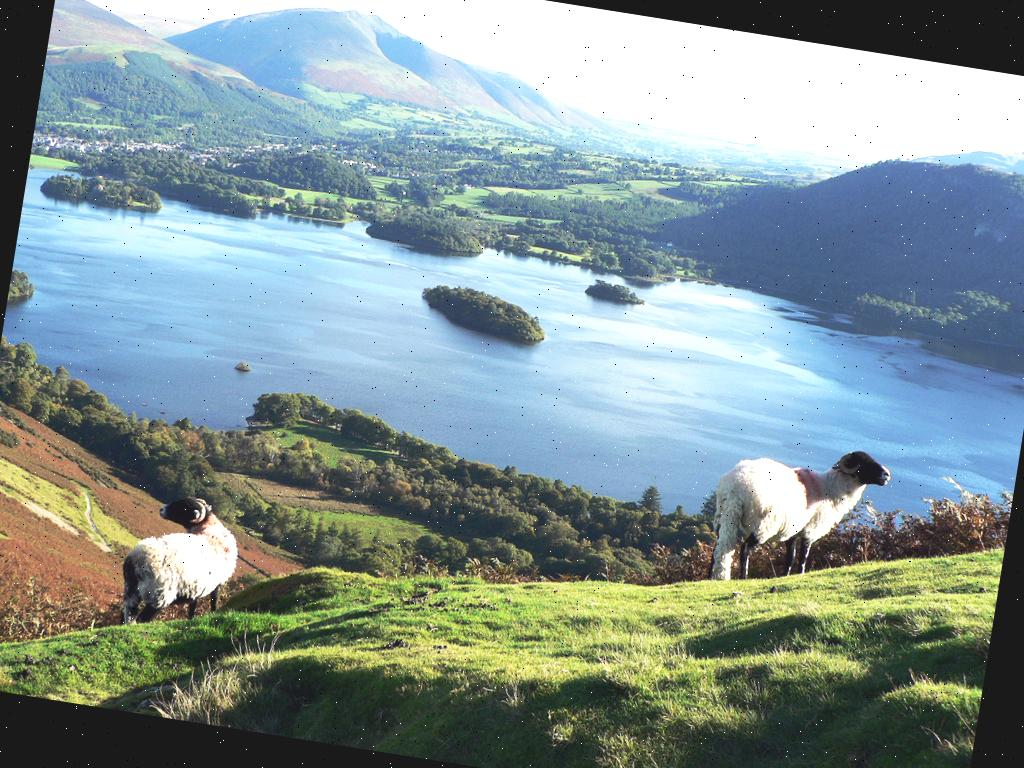Sheep: (700, 428, 892, 606), (114, 488, 244, 642)
